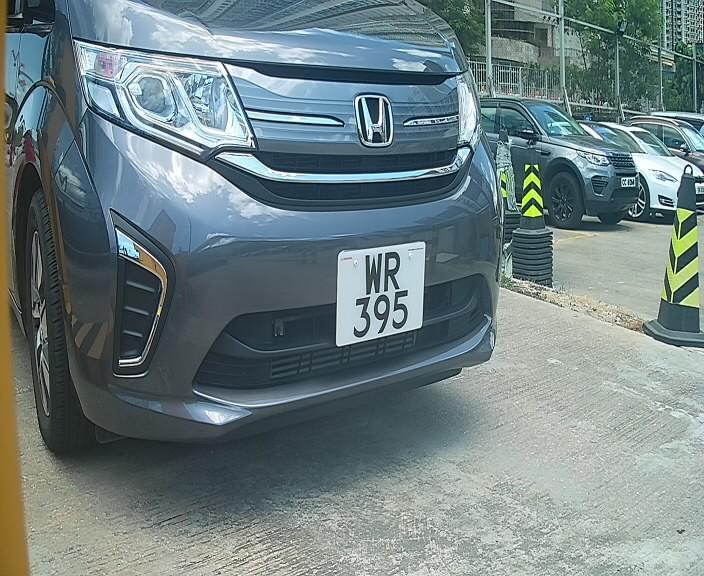privatecar: (13, 8, 538, 456)
